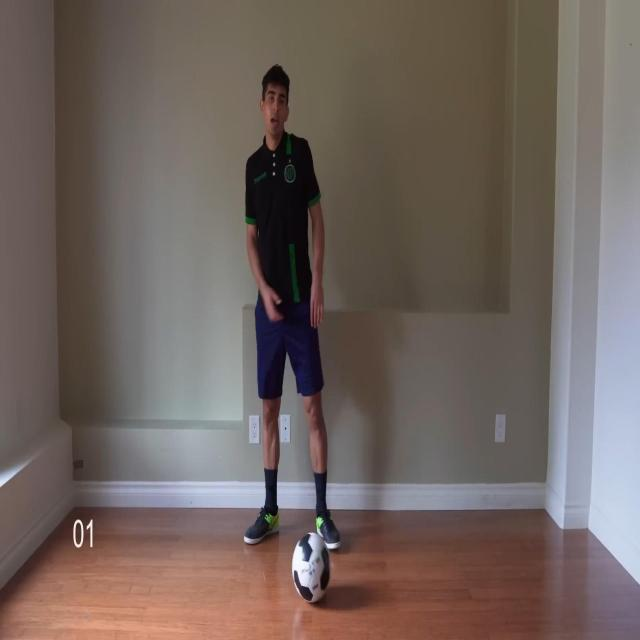Soccer Ball: (292, 532, 331, 606)
